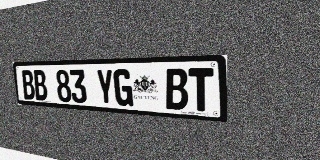3: (69, 70, 87, 103)
8: (55, 70, 72, 102)
B: (165, 68, 188, 110), (33, 70, 48, 101), (21, 70, 36, 100)
G: (113, 69, 133, 107)
T: (188, 68, 214, 112)
Y: (96, 69, 115, 105)
